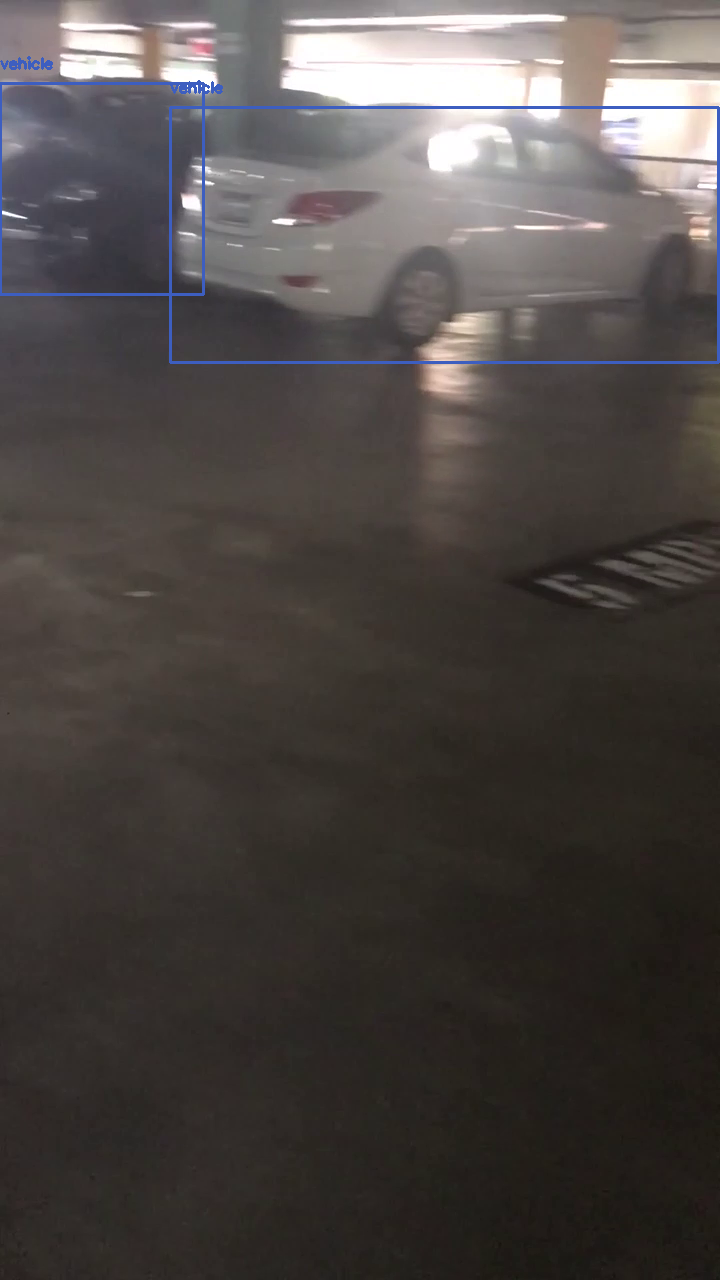vehicle: (170, 107, 718, 362), (0, 83, 203, 294)
